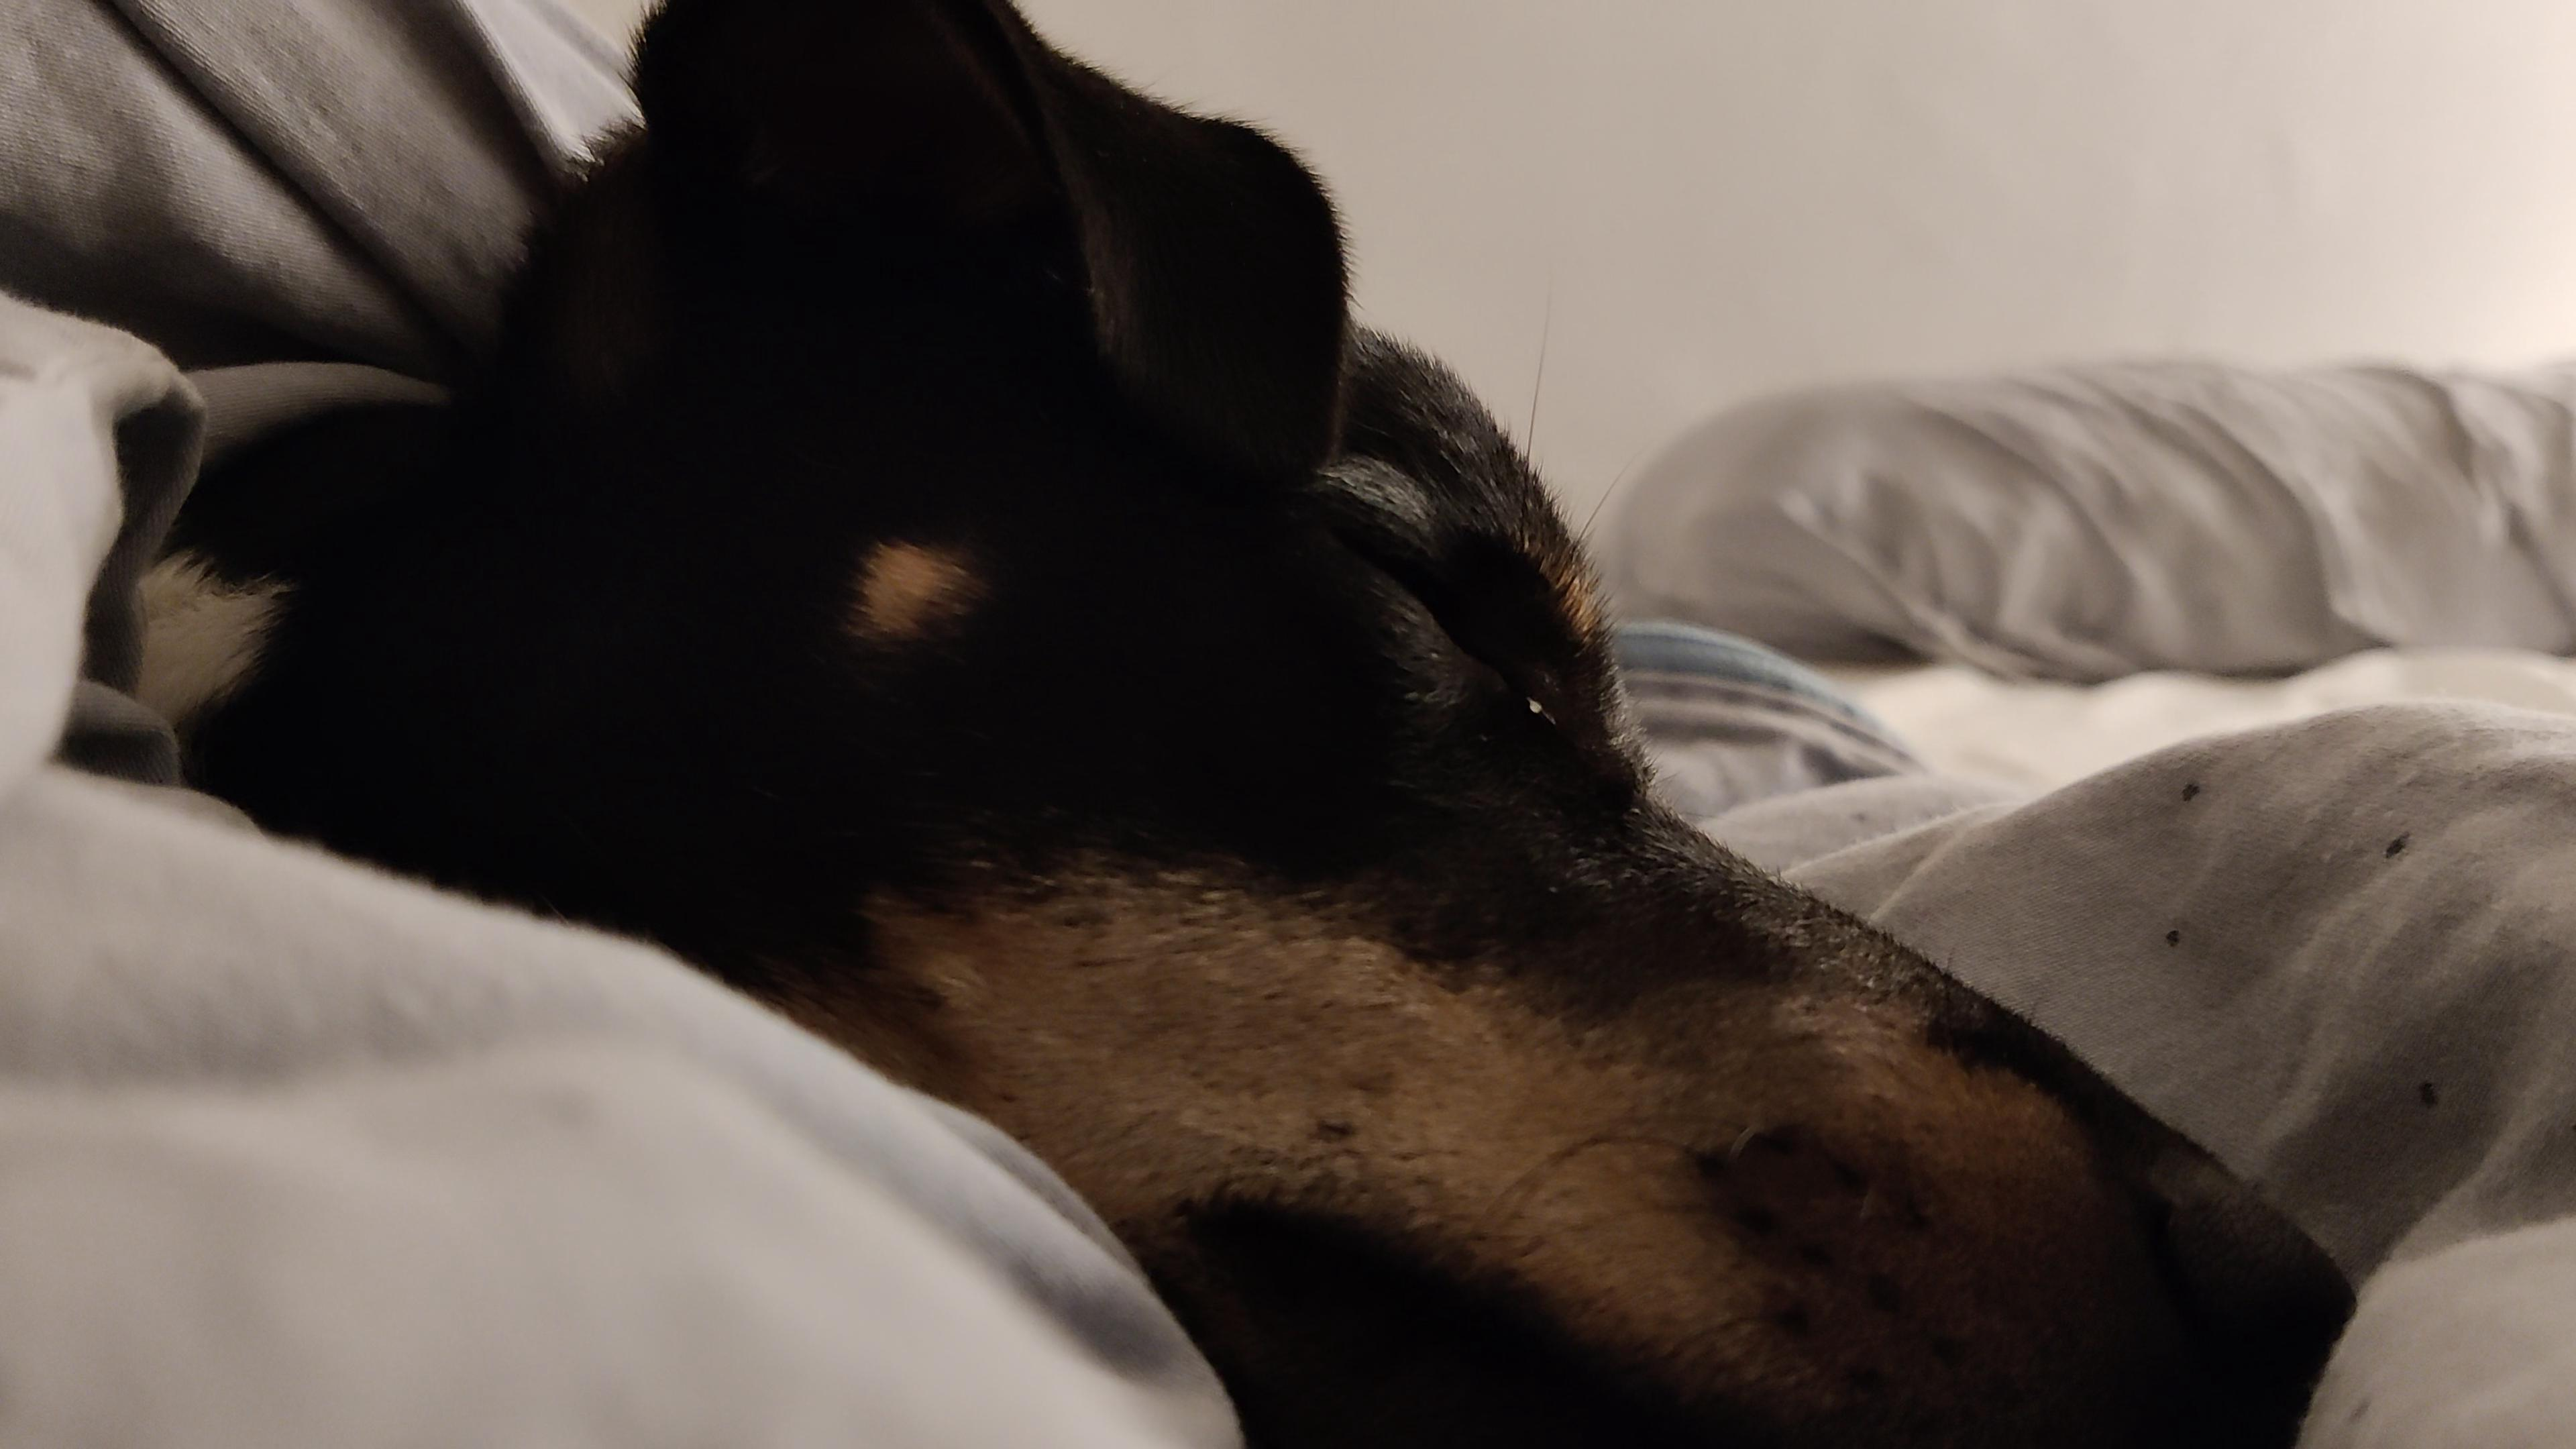Dog: (113, 0, 2374, 1449)
